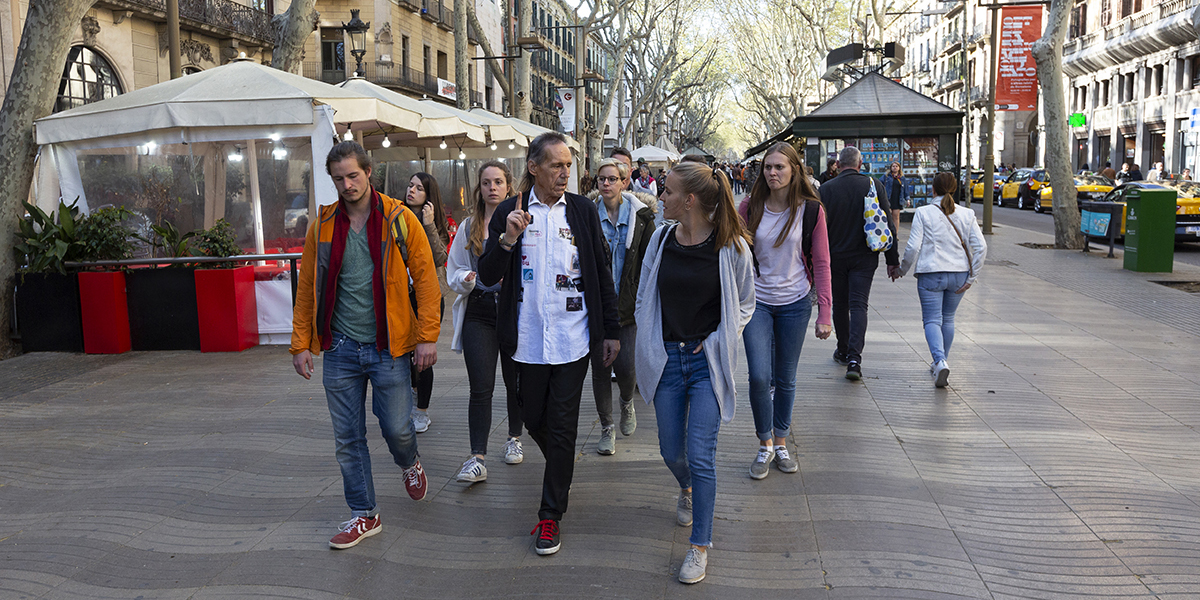without_mask: (534, 146, 575, 198), (330, 161, 371, 202), (655, 174, 686, 226), (758, 151, 792, 195), (482, 166, 508, 204), (403, 175, 426, 207), (600, 165, 620, 197)
